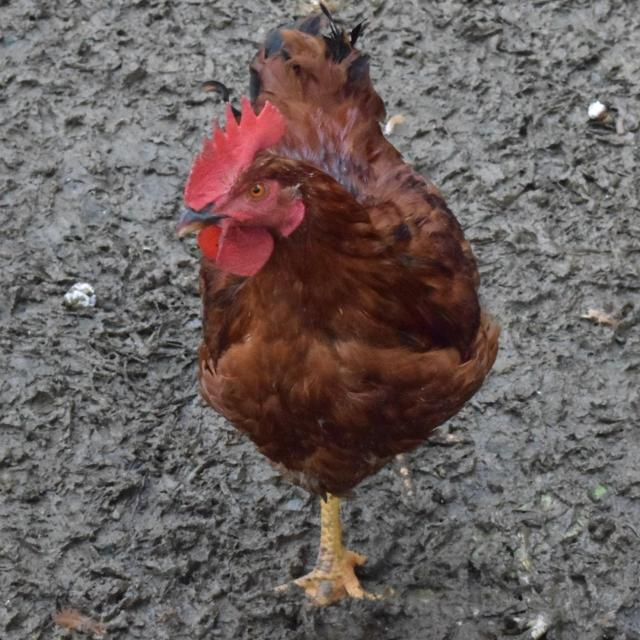cook: (73, 0, 586, 622)
